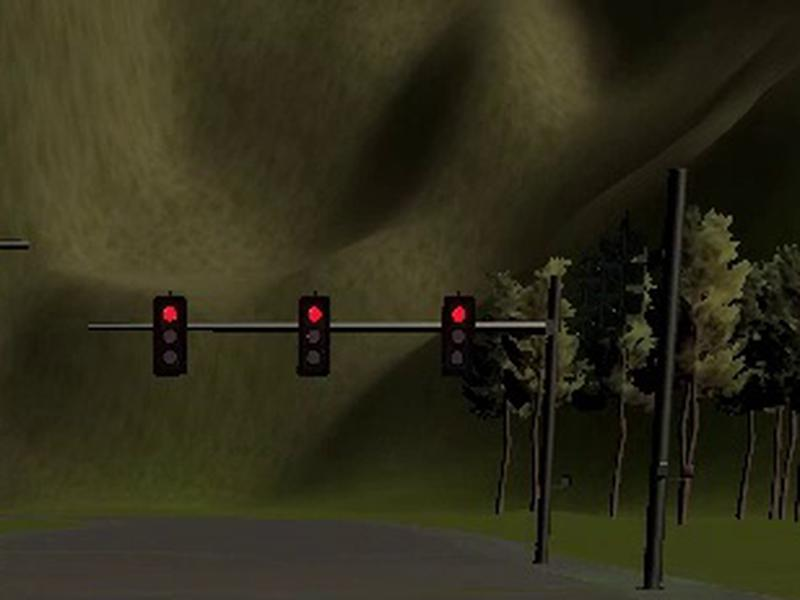Red: (296, 296, 331, 378), (440, 295, 475, 376), (153, 295, 187, 378)
